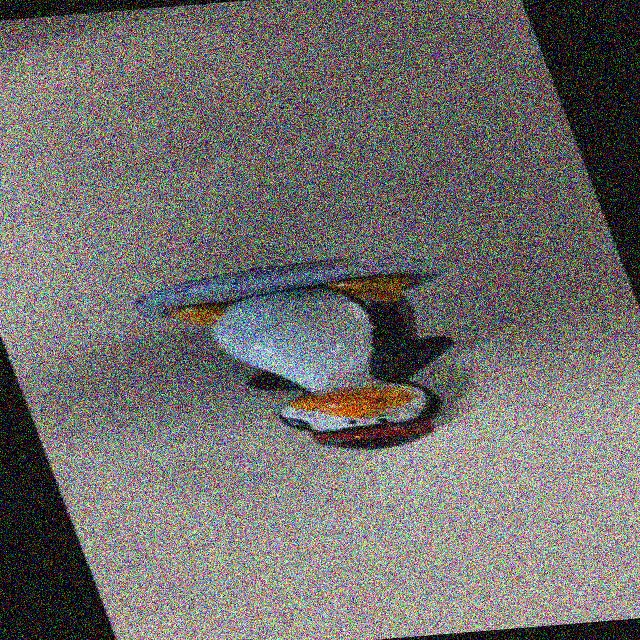Penguin: (117, 246, 514, 470)
